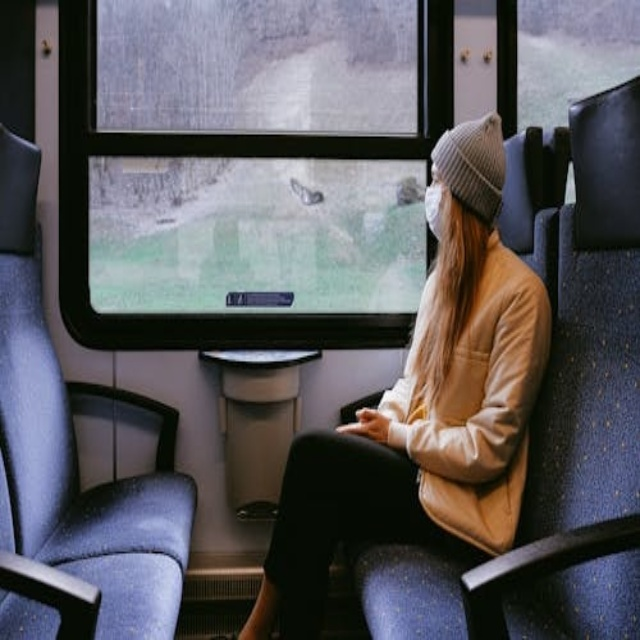Mascara: (424, 179, 451, 244)
Sin_gafas: (421, 165, 442, 186)
Sin_guantes: (333, 396, 389, 444)
